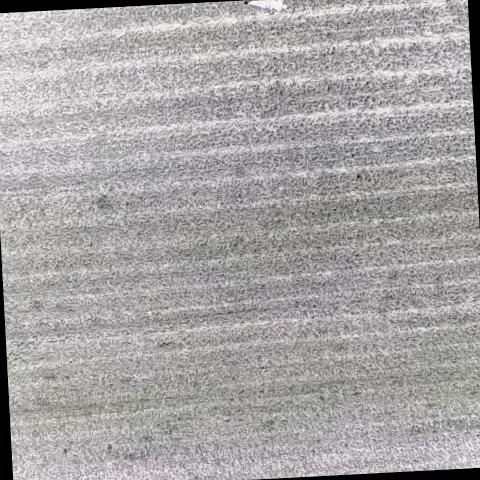person: (242, 0, 290, 13)
